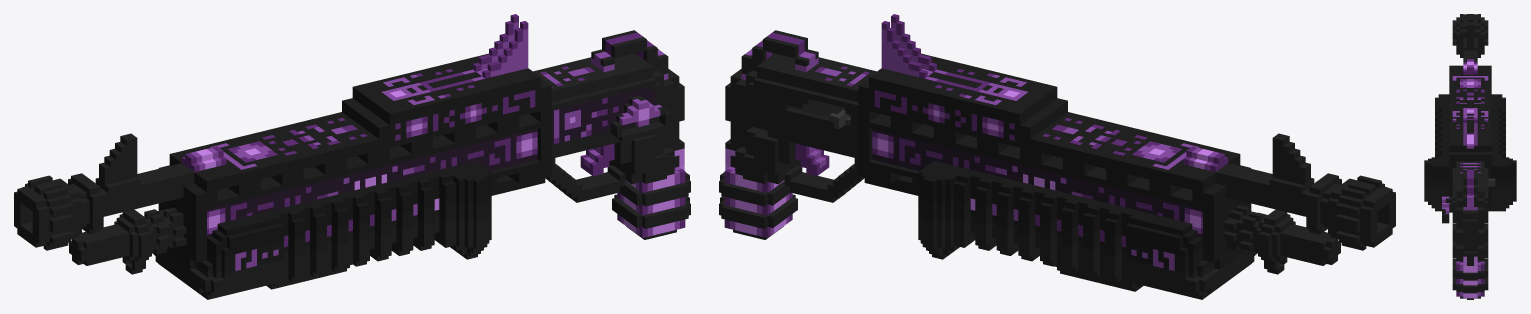
The model's file is space treader.fbx.
3 views of the same model, side by side, from view 1: azimuth 30°, elevation 25°; view 2: azimuth 150°, elevation 25°; view 3: azimuth 270°, elevation 25° (orthographic). The views are drawn at different scales.
Visible parts, largest first — view 1: spacetreader, spacetreader.001, spacetreader.003, spacetreader.002; view 2: spacetreader, spacetreader.001, spacetreader.004, spacetreader.002; view 3: spacetreader, spacetreader.001, spacetreader.003.
Part boxes in pixels (x1,y1,x2,y2): spacetreader: (14,14,690,274); spacetreader.001: (152,161,491,299); spacetreader.003: (611,104,670,142); spacetreader.002: (580,143,614,176); spacetreader: (719,14,1395,274); spacetreader.001: (918,161,1257,299); spacetreader.004: (789,99,850,129); spacetreader.002: (795,143,829,176); spacetreader: (1442,14,1491,299); spacetreader.001: (1424,94,1516,211); spacetreader.003: (1442,207,1449,223).
Size of the model in its own units: 1220 by 430 by 260.
Materials: 1 (1 with a texture image).
